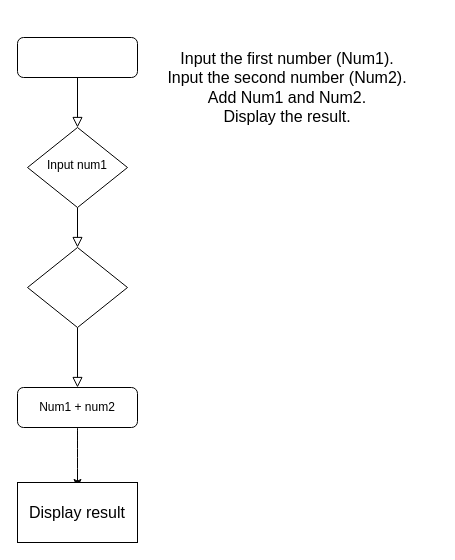
Some shapes in this 455 by 560 pixel diagram are drawn without their labels. The shapes that lost their labels are listed below. From the top down, each one's centre as x and y in pixels, then its label:
the point at 77,57: Start
the point at 77,287: Input num2
